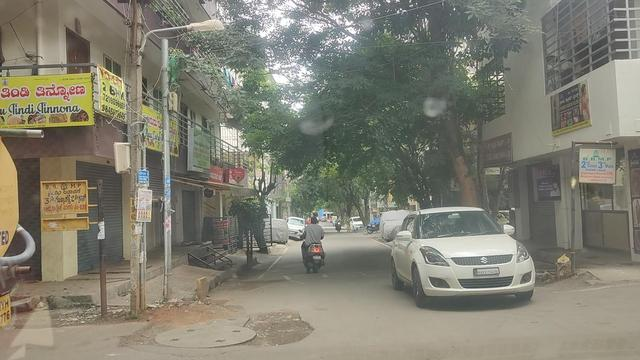LMV: (389, 211, 538, 302), (301, 219, 330, 274)
RoadDamages: (150, 305, 309, 354)
